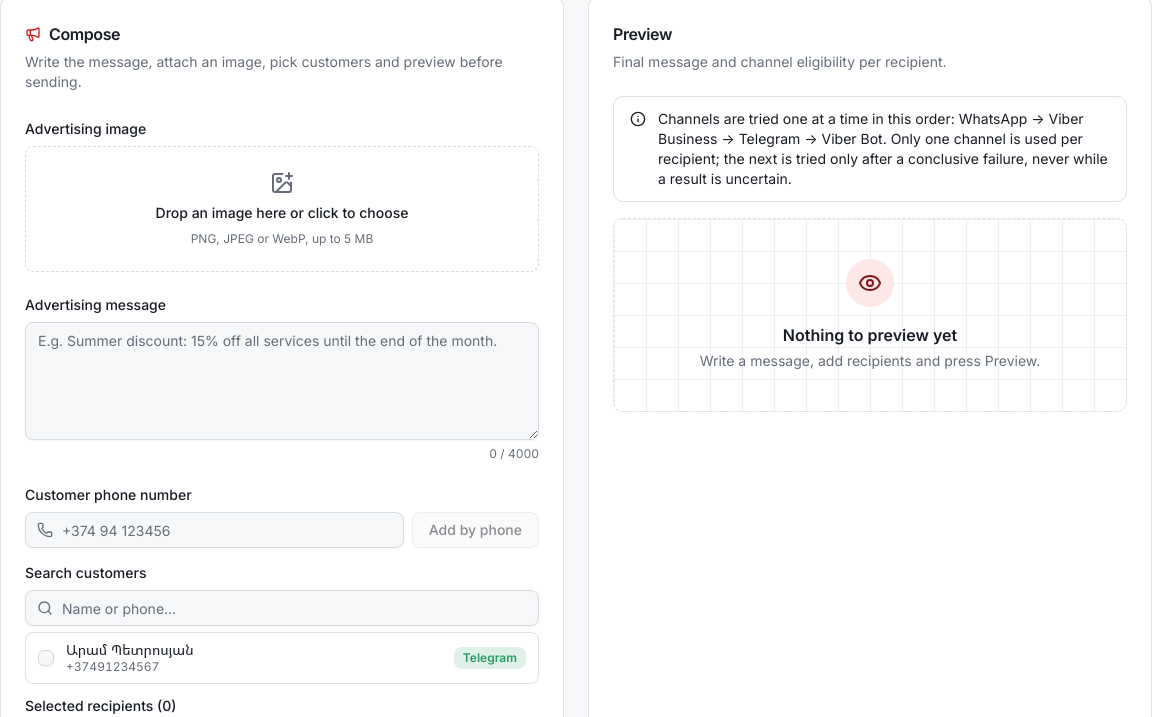
Test case: Quick Advertising page › previews channel eligibility in order and highlights the first eligible channel
Type "Summer discount 15%" into the text box labelled "Advertising message" at (282, 381), box [25,322,539,440]
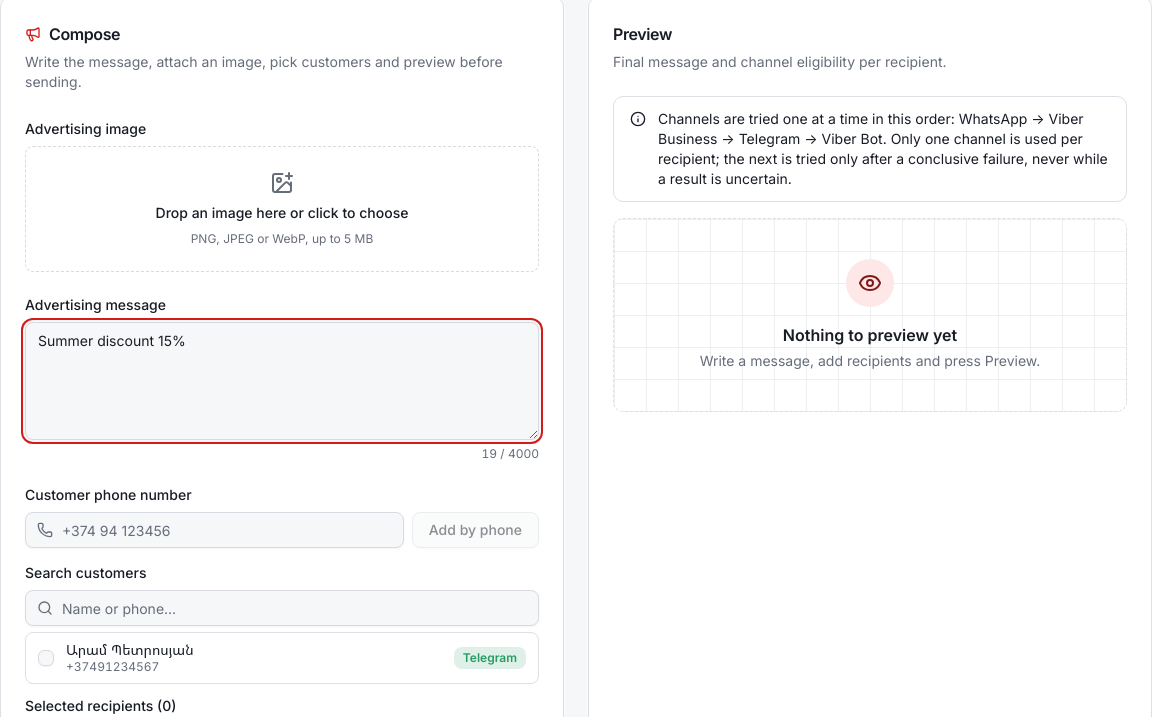
Click the checkbox labelled "Արամ Պետրոսյան" at (46, 658), box [38,650,54,666]
(page scrolled)
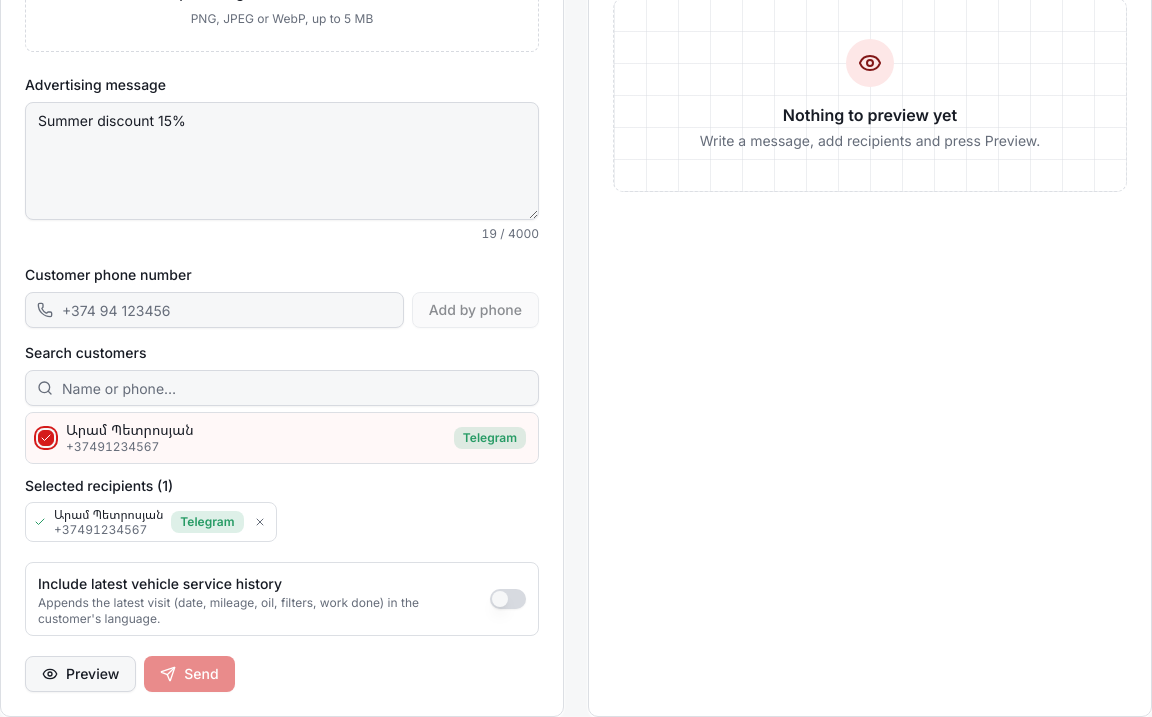
Expected: the list with test id "recipient-chips" shows "+37491234567", [54,522,147,536]
Click the button "Preview" at (81, 674), box [25,656,136,692]
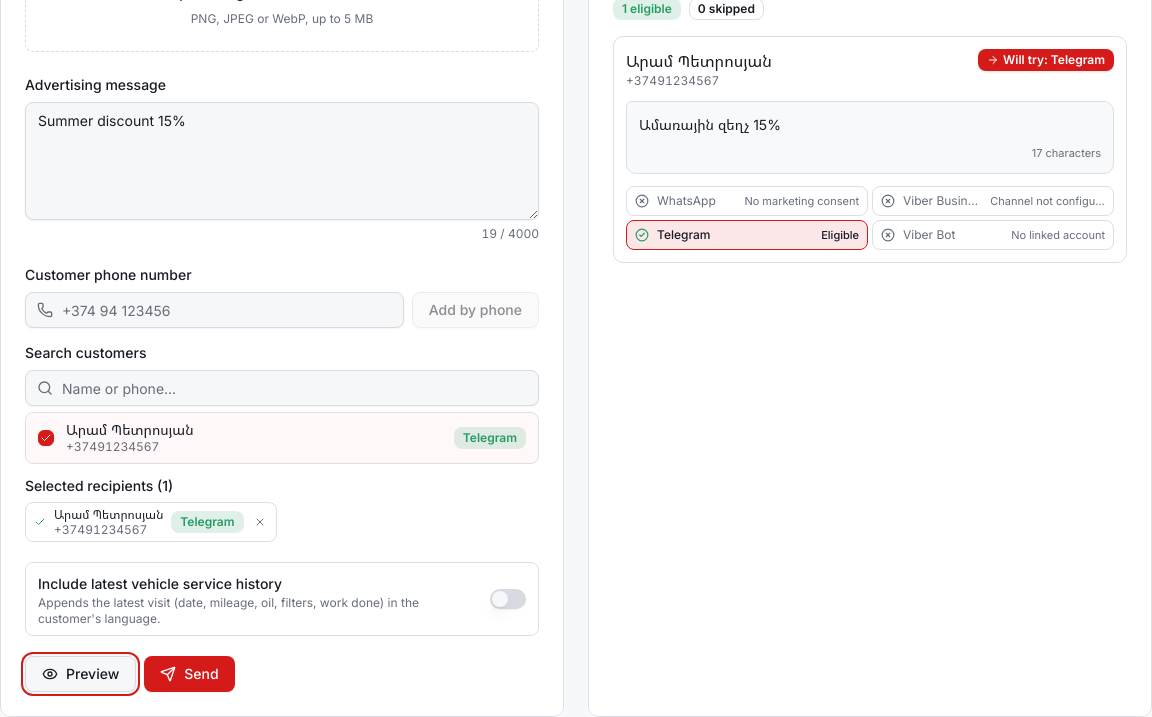
Expected: the list item with test id "channel-row" shows "No marketing consent", [744,194,859,208]
Expected: the list item with test id "channel-row" shows "Channel not configured", [990,194,1112,208]
Expected: the list item with test id "channel-row" shows "No linked account", [1011,228,1105,242]
